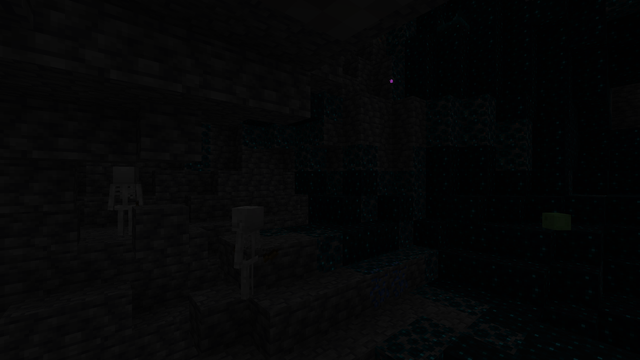slimes: (544, 211, 567, 230)
squelettes: (230, 205, 266, 303), (113, 166, 139, 237)
